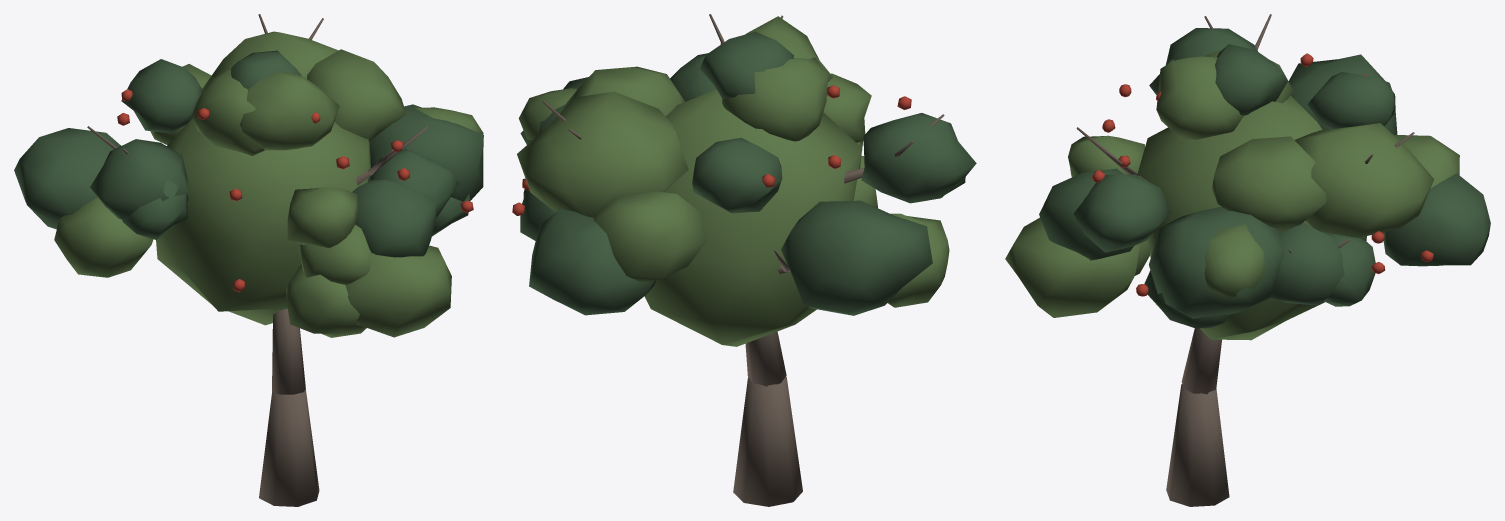
The model's file is node_tree_apple_0.glb.
3 views of the same model, side by side, from view 1: azimuth 30°, elevation 25°; view 2: azimuth 150°, elevation 25°; view 3: azimuth 270°, elevation 25° (orthographic). The views are drawn at different scales.
Parts seen in each view (by area): view 1: blob.023, blob.001, blob.002, blob.017, cyl, blob.013, blob.016, blob.014, blob.010, blob.007, blob.020, blob.015 (+11 smaller); view 2: blob.023, blob.003, blob.002, blob.004, blob.010, blob.019, cyl, blob.021, blob.020, blob.018, blob.013, blob.007 (+6 smaller); view 3: blob.003, blob.023, blob.014, blob.013, blob.001, blob.004, cyl, blob.022, blob.017, blob.012, blob.020, blob.018 (+9 smaller).
Boxes of the visible parts, left/top/right/bottom form: blob.023: left=156, top=118, right=370, bottom=325; blob.001: left=345, top=245, right=451, bottom=337; blob.002: left=14, top=128, right=120, bottom=229; blob.017: left=240, top=72, right=339, bottom=150; cyl: left=259, top=389, right=319, bottom=506; blob.013: left=307, top=49, right=406, bottom=142; blob.016: left=352, top=179, right=436, bottom=257; blob.014: left=369, top=104, right=483, bottom=201; blob.010: left=90, top=139, right=188, bottom=219; blob.007: left=54, top=197, right=153, bottom=277; blob.020: left=121, top=59, right=203, bottom=133; blob.015: left=286, top=264, right=366, bottom=337; blob.023: left=644, top=89, right=862, bottom=346; blob.003: left=517, top=91, right=688, bottom=217; blob.002: left=781, top=200, right=932, bottom=315; blob.004: left=529, top=209, right=655, bottom=315; blob.010: left=861, top=113, right=976, bottom=203; blob.019: left=593, top=191, right=706, bottom=283; cyl: left=733, top=376, right=802, bottom=506; blob.021: left=722, top=57, right=827, bottom=141; blob.020: left=692, top=137, right=782, bottom=213; blob.018: left=700, top=32, right=794, bottom=98; blob.013: left=560, top=66, right=685, bottom=116; blob.007: left=888, top=213, right=949, bottom=307; blob.003: left=1295, top=123, right=1434, bottom=237; blob.023: left=1137, top=95, right=1366, bottom=340; blob.014: left=1149, top=206, right=1283, bottom=318; blob.013: left=1212, top=136, right=1326, bottom=232; blob.001: left=1005, top=217, right=1139, bottom=317; blob.004: left=1382, top=173, right=1490, bottom=266; cyl: left=1166, top=384, right=1229, bottom=506; blob.022: left=1073, top=174, right=1171, bottom=252; blob.017: left=1156, top=56, right=1243, bottom=139; blob.012: left=1272, top=222, right=1344, bottom=305; blob.020: left=1307, top=72, right=1395, bottom=128; blob.018: left=1215, top=44, right=1287, bottom=115.
Bounding box in the file's own units: 6.07 × 6 × 6.03.
